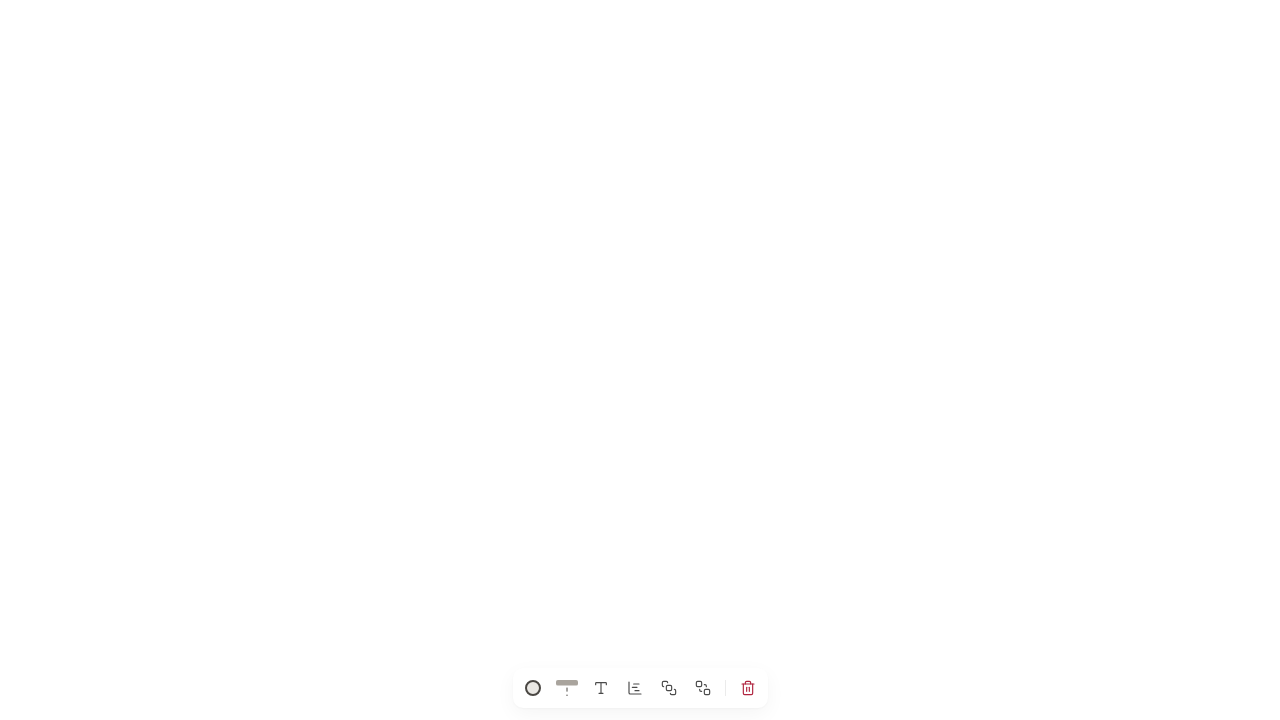
edit bar — Activations › shows start and end inputs per bar for a single selected lifeline
The image size is (1280, 720).
Click the 4th button named "Activations".
click(634, 688)  # box x1=618 y1=672 x2=650 y2=704
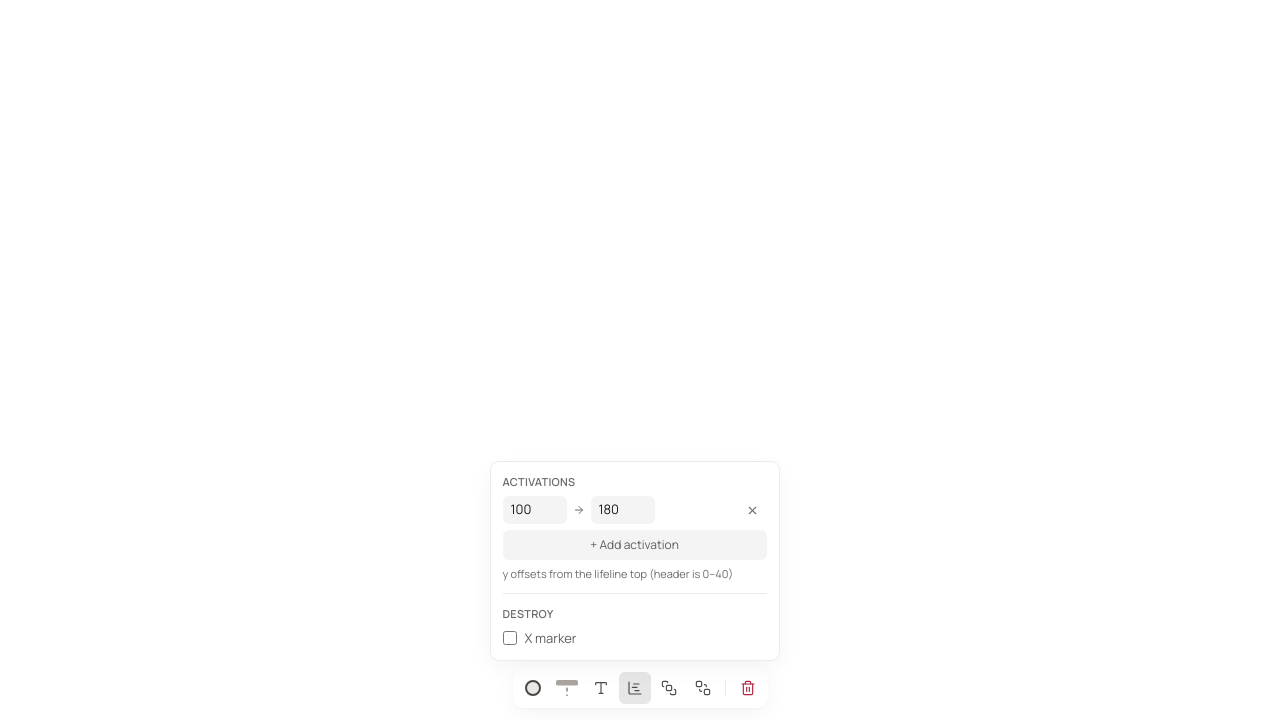
Now the dialog "Activations" is shown, box x1=490 y1=462 x2=778 y2=660
Now the number field named "Activation 1 start" holds "100", box x1=502 y1=496 x2=566 y2=524
Now the number field named "Activation 1 end" holds "180", box x1=590 y1=496 x2=654 y2=524
